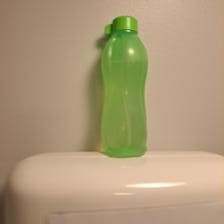bottle: (98, 14, 146, 158)
